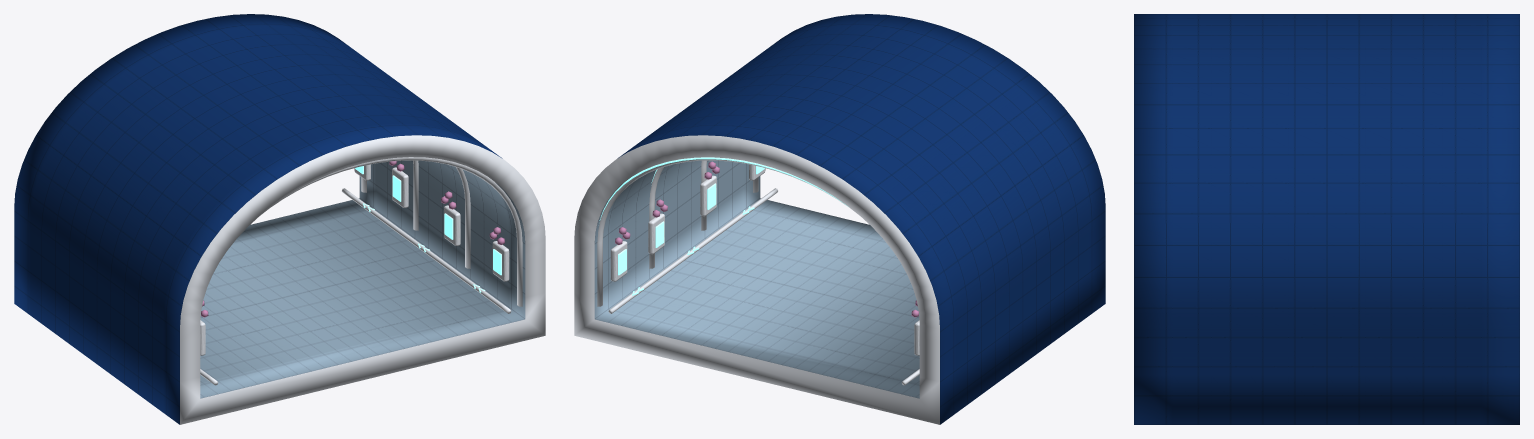
File: straight_12m.glb
The picture shows the model from 3 angles, left to right: view 1: azimuth 30°, elevation 25°; view 2: azimuth 150°, elevation 25°; view 3: azimuth 270°, elevation 25°; orthographic projection. The views are drawn at different scales.
Parts seen in each view (by area): view 1: TunnelGeometry; view 2: TunnelGeometry; view 3: TunnelGeometry.
Part boxes in pixels (left/top/right/bottom): TunnelGeometry: left=14, top=14, right=545, bottom=424; TunnelGeometry: left=574, top=14, right=1105, bottom=424; TunnelGeometry: left=1134, top=14, right=1519, bottom=424.
Bounding box in the file's own units: 15.3 × 9.52 × 12.
5 materials, 2 textured.
